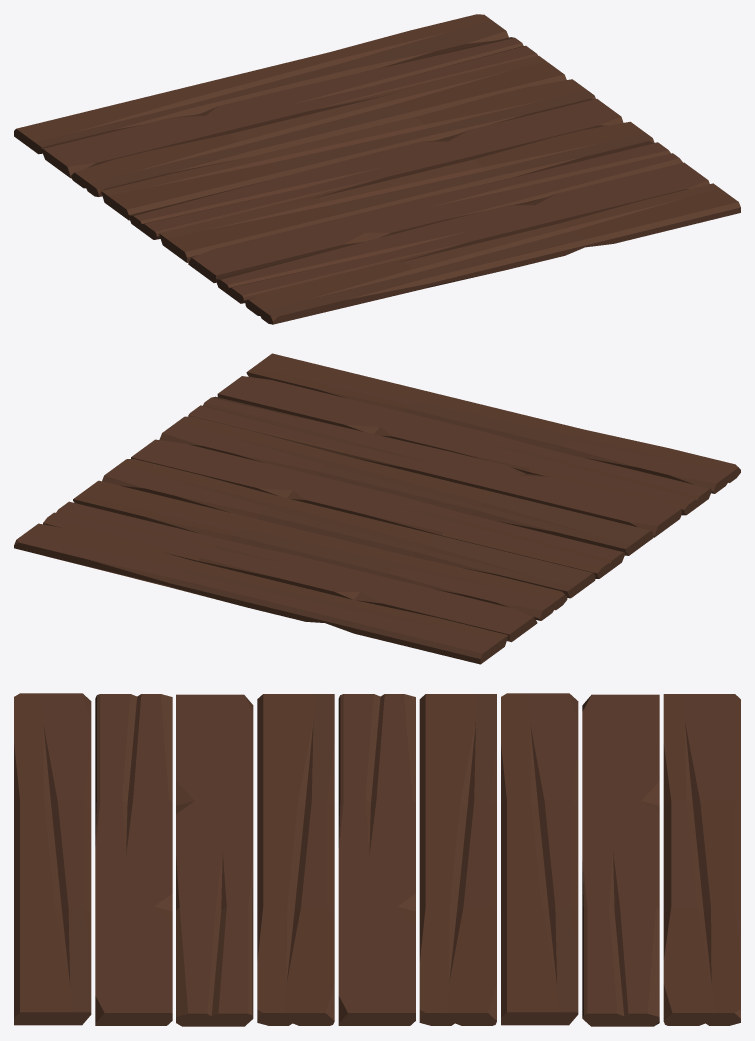
File: Planks.fbx
3 renders of one model, top to bottom at view 1: azimuth 30°, elevation 25°; view 2: azimuth 150°, elevation 25°; view 3: azimuth 270°, elevation 25°, orthographic. The views are drawn at different scales.
Visible parts, largest first — view 1: Plane.003; view 2: Plane.003; view 3: Plane.003.
Part boxes in pixels (x1=…): Plane.003: x1=14, y1=14, x2=740, y2=324; Plane.003: x1=14, y1=353, x2=740, y2=664; Plane.003: x1=14, y1=693, x2=740, y2=1026.
Bounding box in the file's own units: 1119 × 22.29 × 1074.
